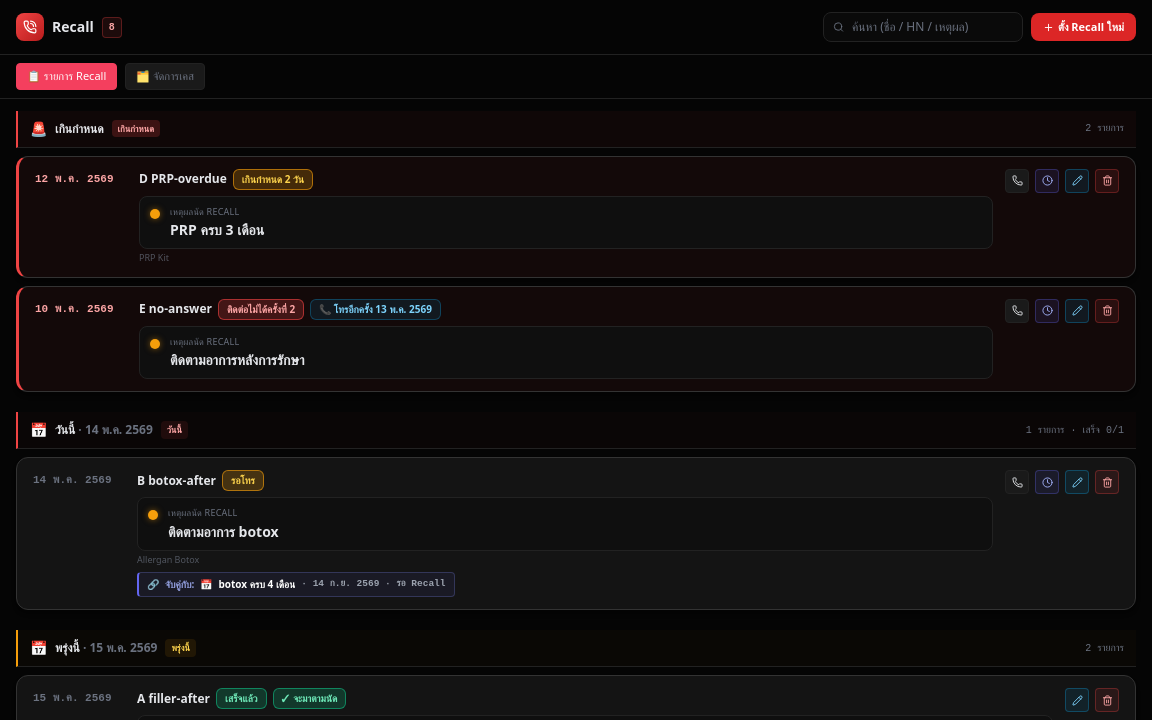
Test: Phase 29 · F2 row click opens detail (outcome modal) › F2.1 clicking row body opens outcome modal with that recall
What coordinates should you click on to do the following:
click the button with test id "recall-row-R3"
I would click on:
 (576, 534)
Its box is [16,457,1136,610].
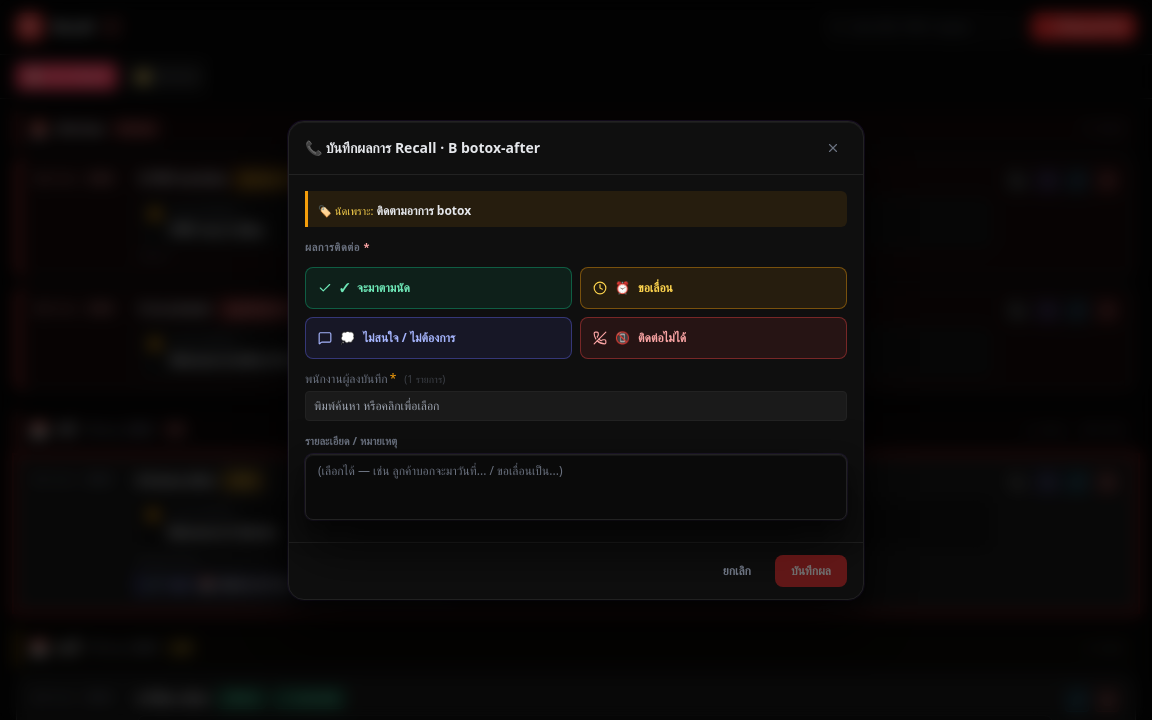
Expected: the element with test id "recall-outcome-modal" is shown
